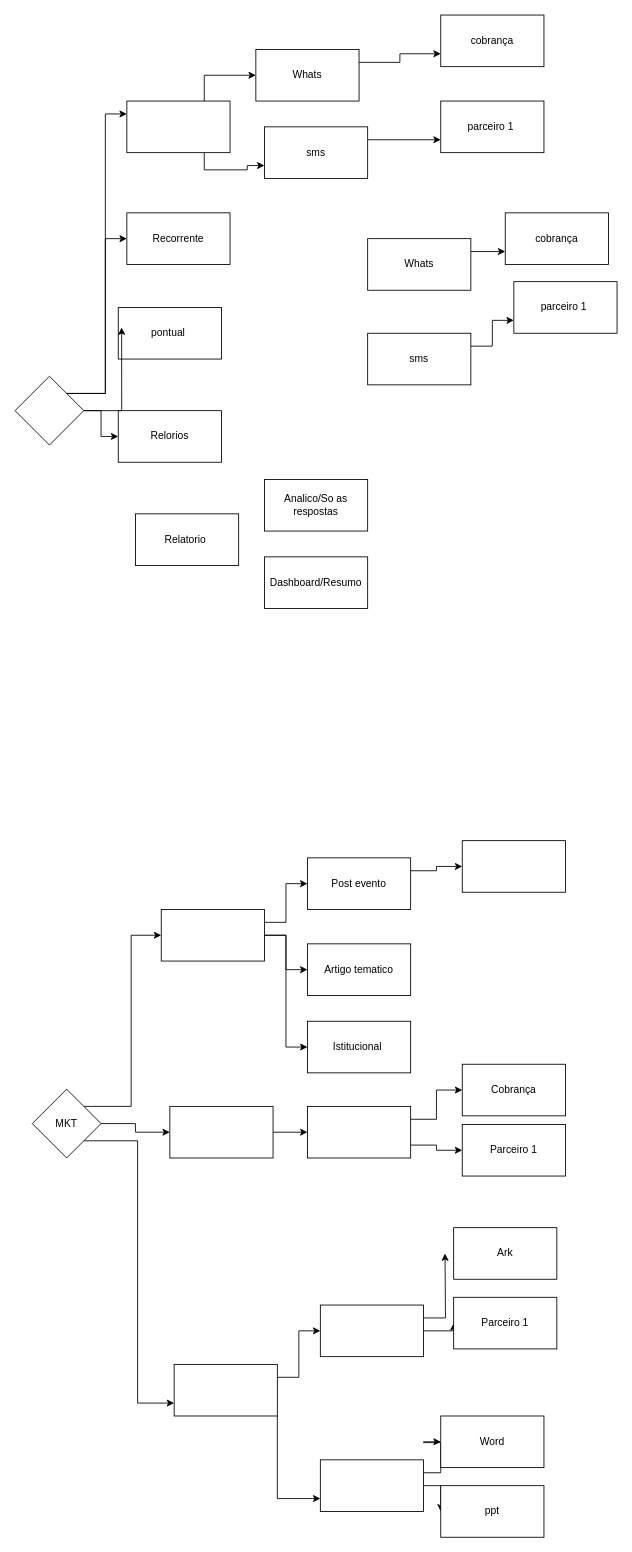
The diagram is 632 pixels wide and 1552 high, and some of its shapes have lost their labels. Each missing label, with the centre of its shape:
"Criação" belongs at pixel 221 1132.
"CRM" belongs at pixel 49 410.
"Disparos (base pronta sem extrategia)" belongs at pixel 178 126.
"EMKT" belongs at pixel 359 1132.
"Institucional (logos)" belongs at pixel 225 1390.
"Linkdin" belongs at pixel 513 866.
"Logo" belongs at pixel 371 1330.
"Material Timbrado" belongs at pixel 371 1485.
"sugestão de post Redes sociais" belongs at pixel 212 935.
